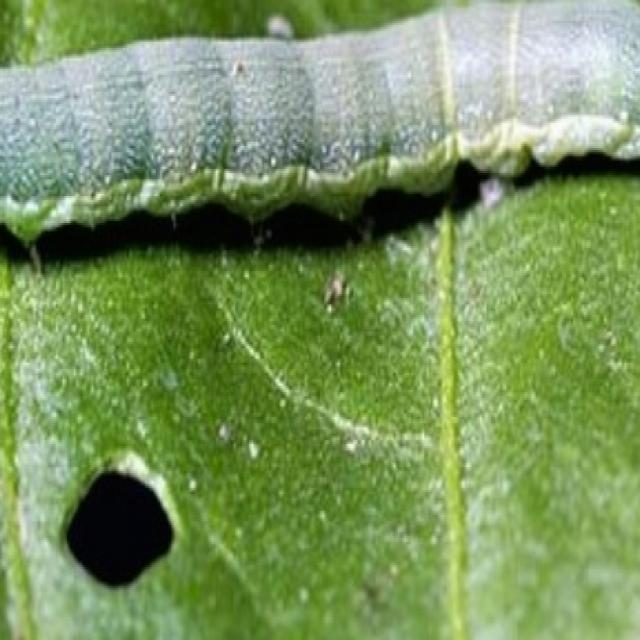armyworm: (0, 0, 639, 261)
